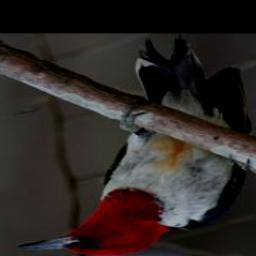Woodpecker: (14, 35, 251, 256)
